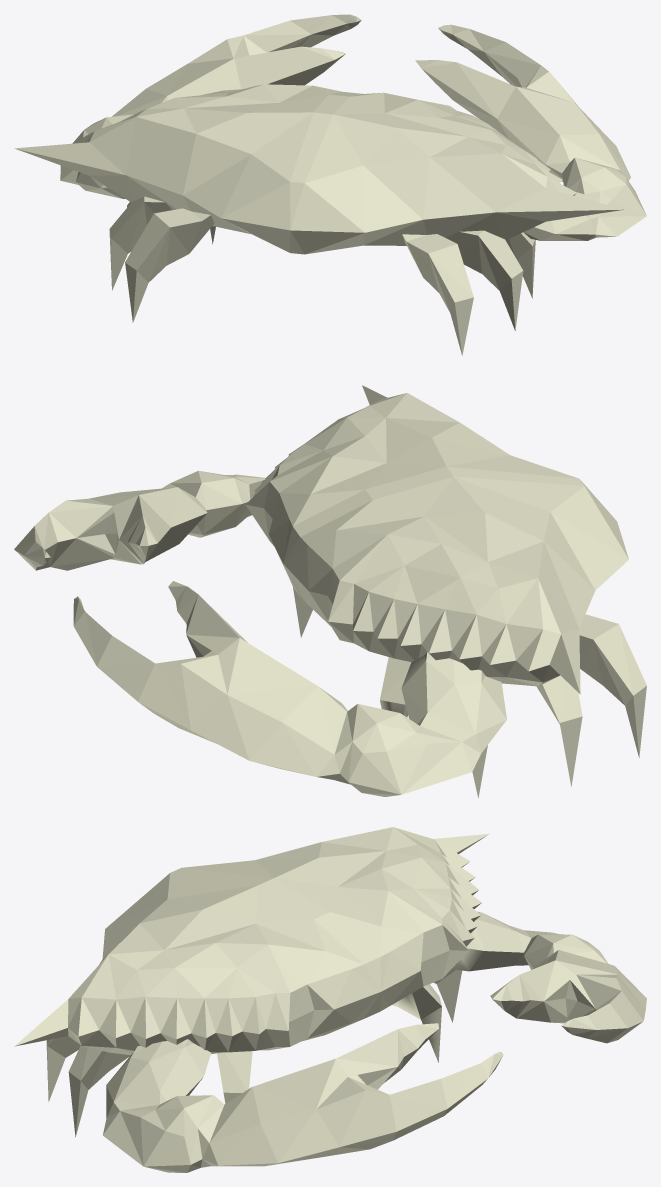
File: Crab.fbx
3 renders of one model, top to bottom at view 1: azimuth 30°, elevation 25°; view 2: azimuth 150°, elevation 25°; view 3: azimuth 270°, elevation 25°, orthographic. The views are drawn at different scales.
Parts seen in each view (by area): view 1: Model; view 2: Model; view 3: Model.
Boxes of the visible parts, x1,y1,x2,y2 form: Model: (14, 14, 646, 355); Model: (14, 385, 646, 797); Model: (14, 827, 646, 1172).
Size of the model in its own units: 3.42 by 1.17 by 3.35.
